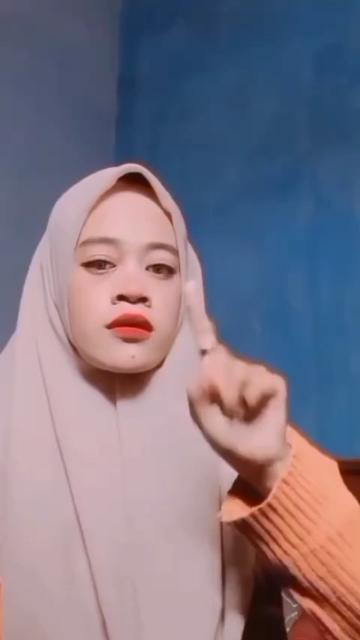Z: (176, 276, 298, 470)
